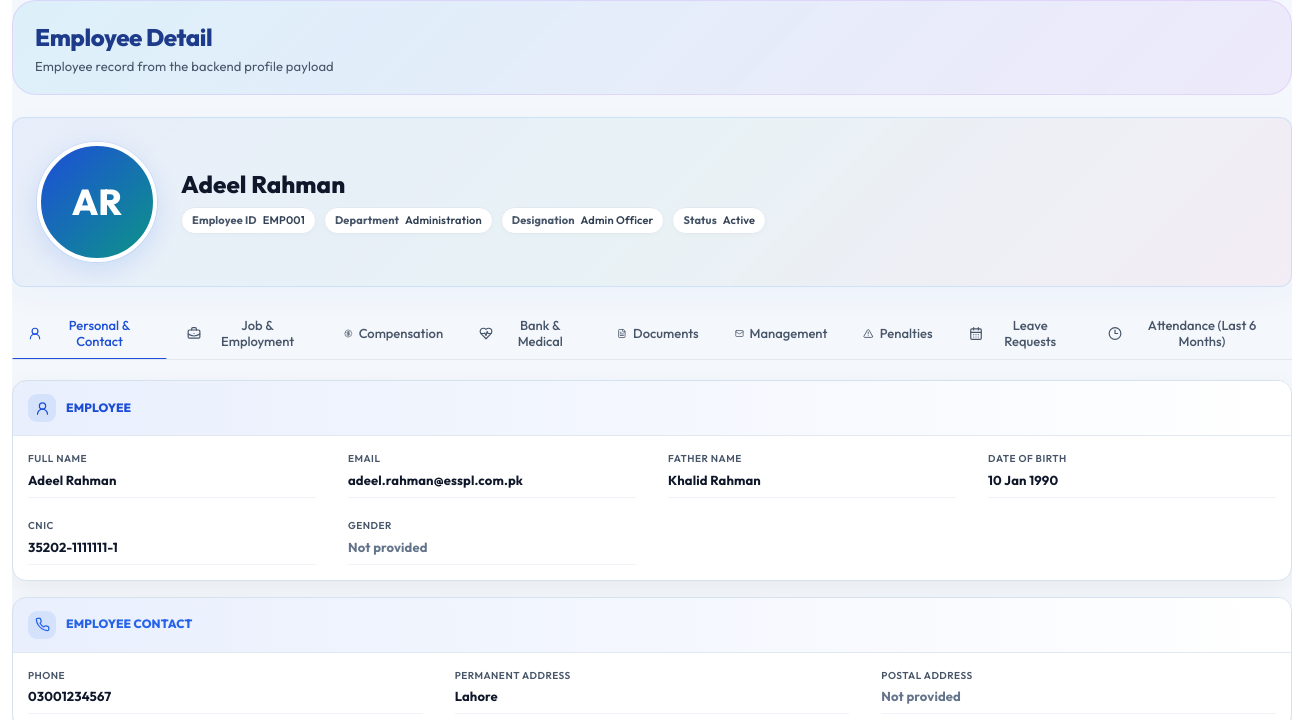
Test: EmployeeDetail › loads employee attendance in six-month windows
Click the button "Attendance (Last 6 Months)": x=1192, y=333 [1092,307,1292,359]
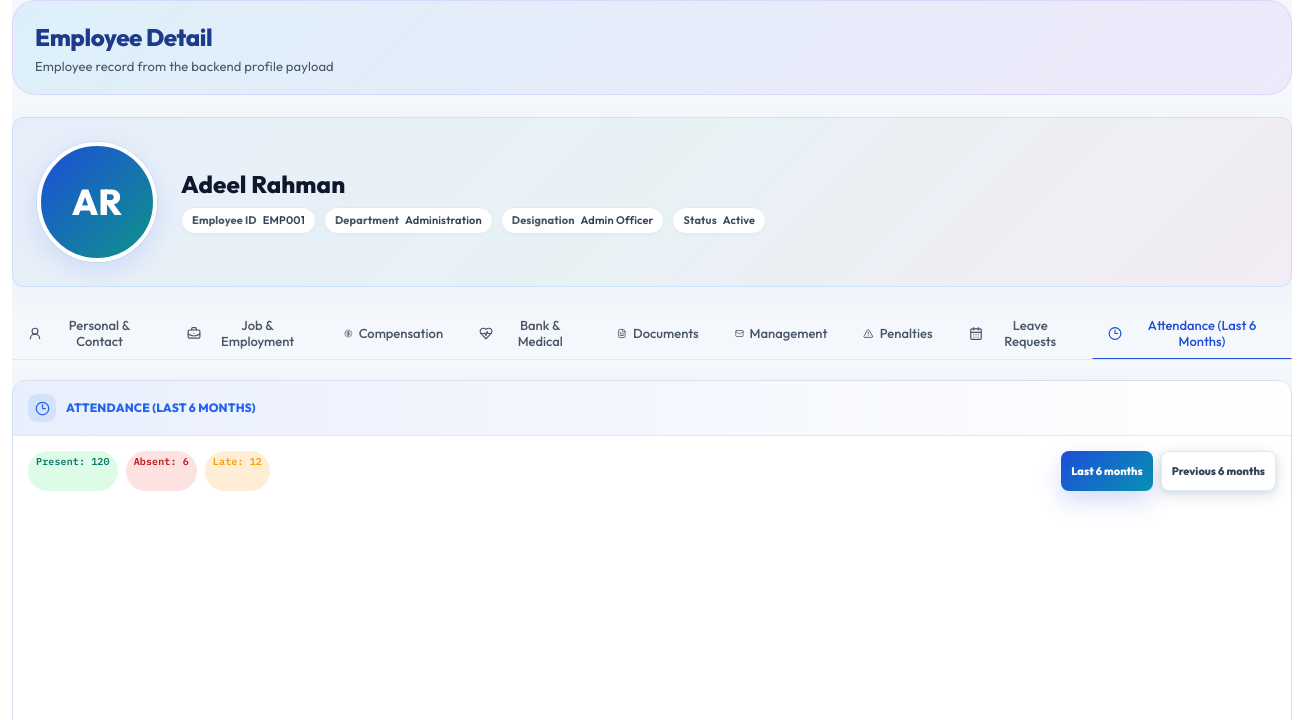
Now the button "Previous 6 months" is shown, box [1161,451,1276,491]
